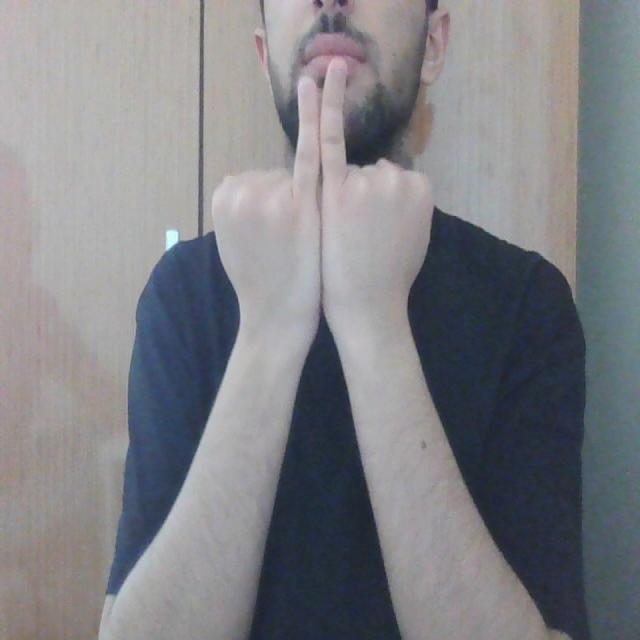Kardes: (208, 49, 440, 332)
